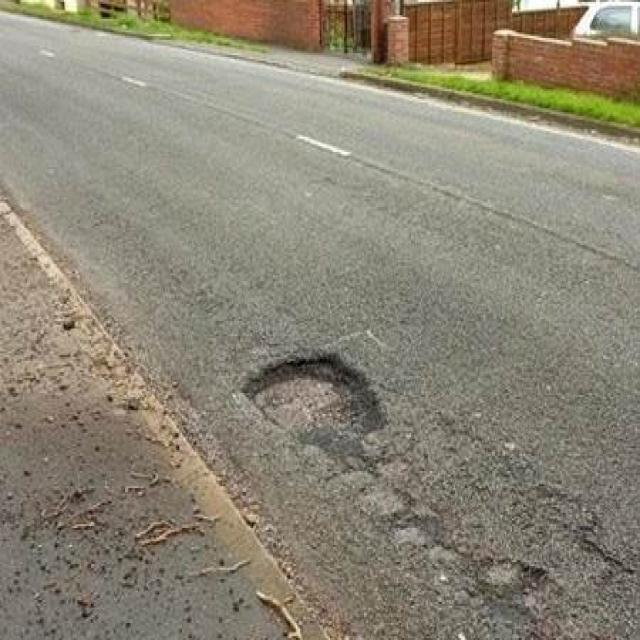major_pothole: (232, 344, 388, 448)
minor_pothole: (478, 550, 543, 592)
